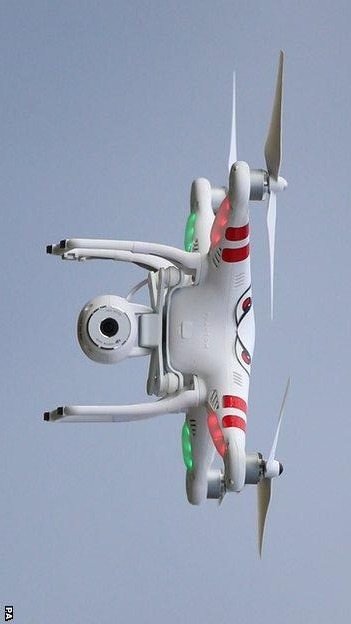drone: (43, 45, 293, 559)
